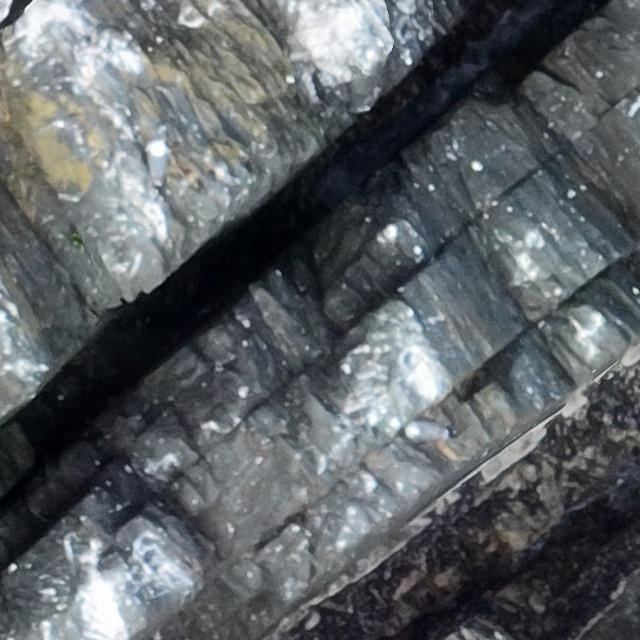umineko: (149, 143, 169, 183), (405, 420, 443, 440)
